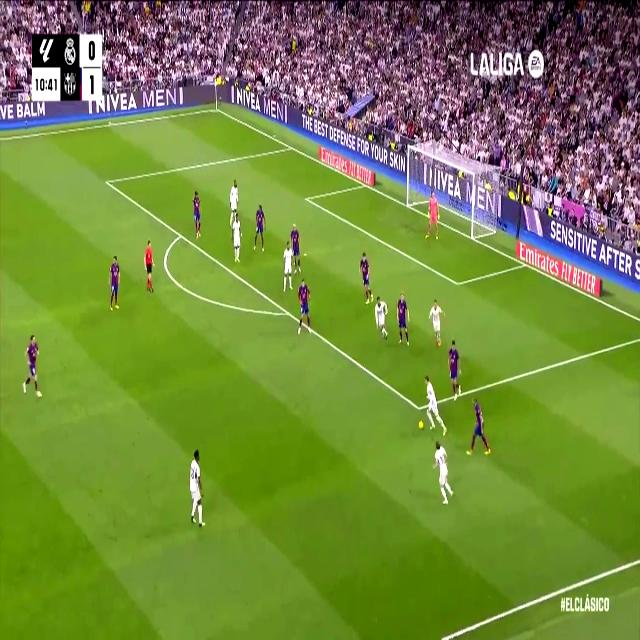bigarea_bottom_inner: (415, 398, 423, 418)
bigarea_top_inner: (102, 172, 110, 190)
bottom_arc_area_intersection: (284, 303, 292, 321)
corner: (212, 103, 220, 113)
smallarea_top_inner: (304, 193, 310, 204)
top_arc_area_intersection: (176, 226, 184, 243)
